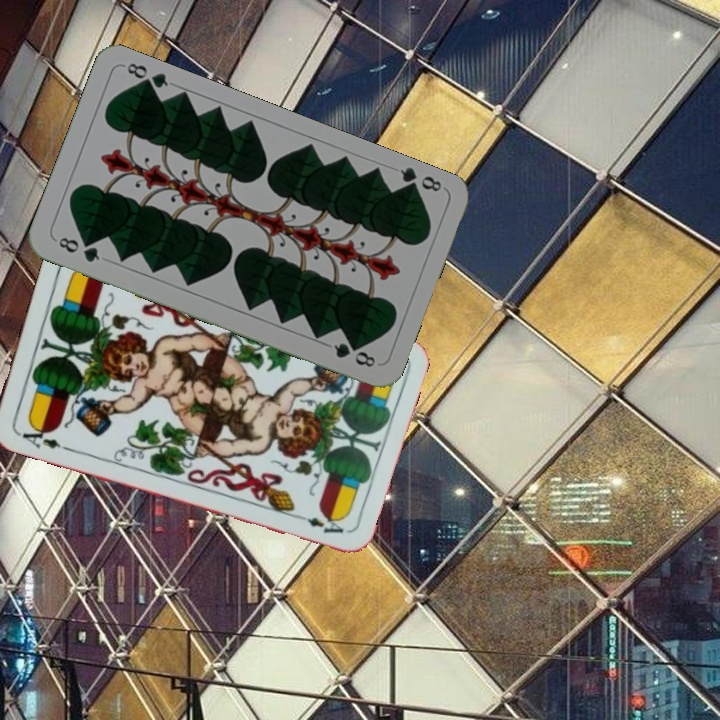EA: (13, 420, 71, 453)
G8: (396, 163, 444, 197), (54, 233, 103, 265)
